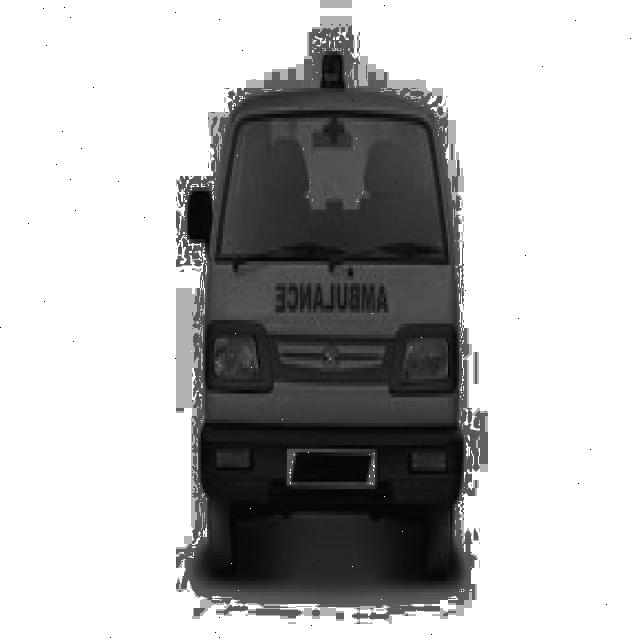LCV: (185, 49, 467, 507)
